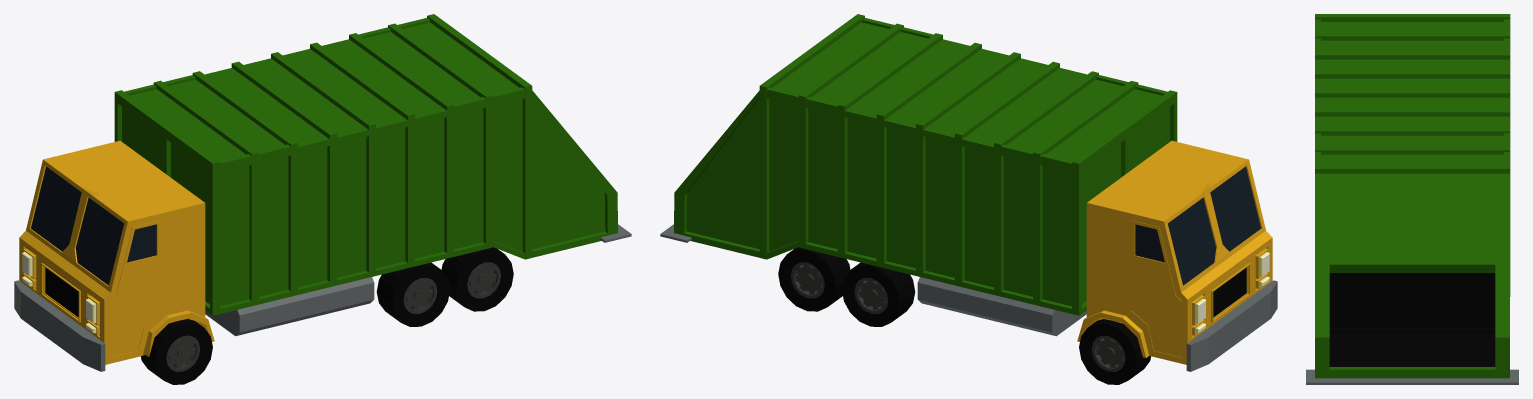
The model's file is Camion Poubelle.fbx.
3 views of the same model, side by side, from view 1: azimuth 30°, elevation 25°; view 2: azimuth 150°, elevation 25°; view 3: azimuth 270°, elevation 25° (orthographic).
Visible parts, largest first — view 1: Cylinder.002; view 2: Cylinder.002; view 3: Cylinder.002.
Boxes of the visible parts, box(x1,y1,x2,y2) form: Cylinder.002: box(14, 14, 631, 384); Cylinder.002: box(660, 14, 1277, 384); Cylinder.002: box(1306, 14, 1518, 384).
Size of the model in its own units: 343 by 378 by 973.
